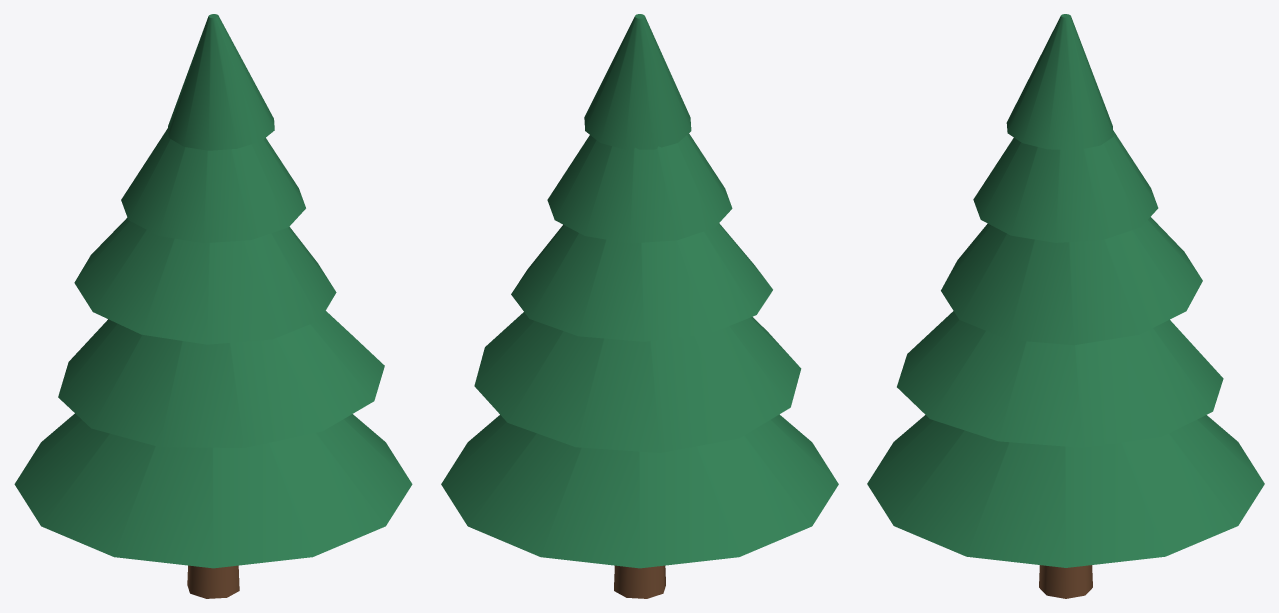
Rendered from tree_2.glb.
3 views of the same model, side by side, from view 1: azimuth 30°, elevation 25°; view 2: azimuth 150°, elevation 25°; view 3: azimuth 270°, elevation 25° (orthographic).
Visible parts, largest first — view 1: Tree_2; view 2: Tree_2; view 3: Tree_2.
Boxes of the visible parts, left/top/right/bottom form: Tree_2: left=14, top=14, right=412, bottom=598; Tree_2: left=441, top=14, right=838, bottom=598; Tree_2: left=867, top=14, right=1264, bottom=598.
Size of the model in its own units: 4.7 by 7.45 by 4.7.
